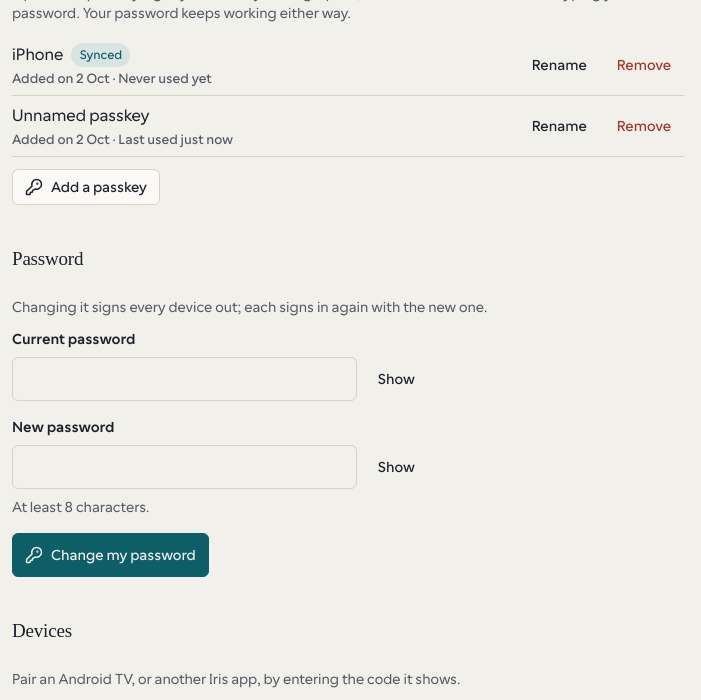
Test: account page › a short new password is said under it, nothing sent; the fields can be shown
(page scrolled)
Type "old secret" into the password field labelled "Current password" at (184,379), box x1=12 y1=357 x2=356 y2=401
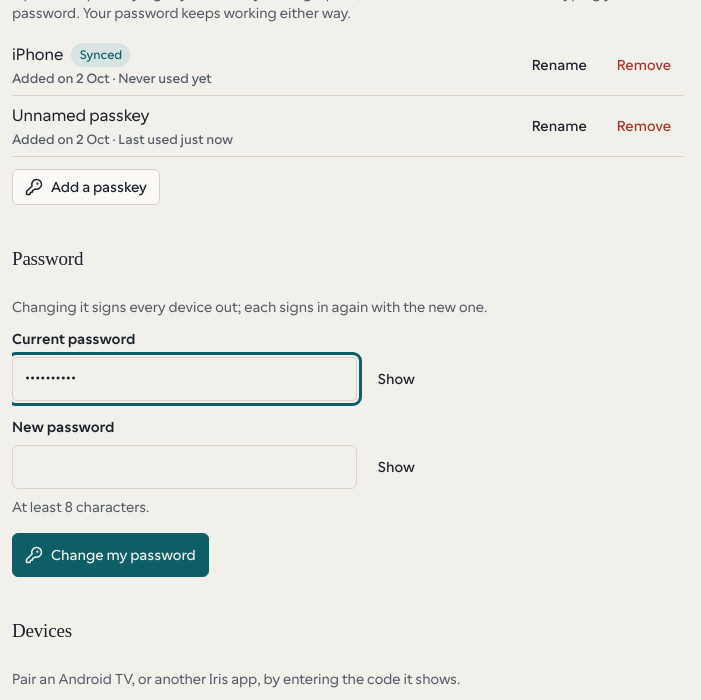
Type "short" into the password field labelled "New password" at (184,467), box x1=12 y1=445 x2=356 y2=489
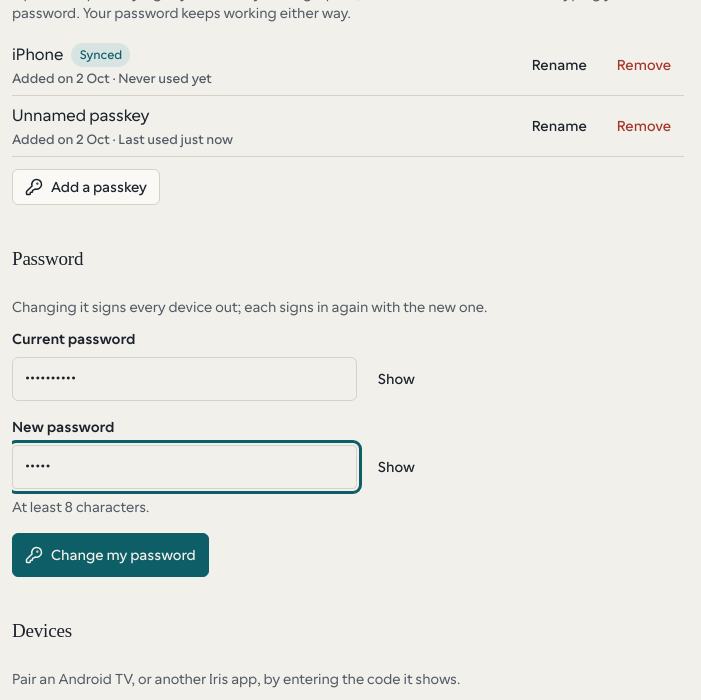
Click the button "Change my password" at (110,555), box x1=12 y1=533 x2=209 y2=577
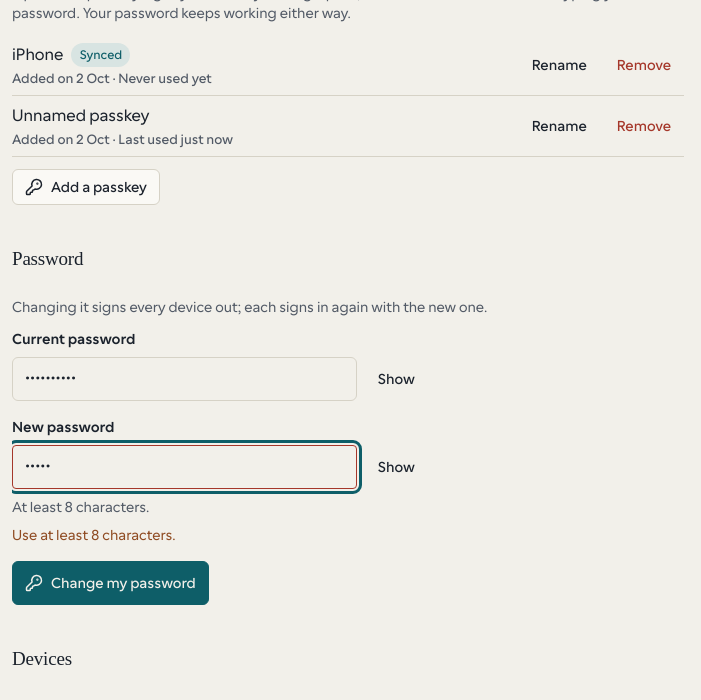
Click the button with aria-label "Show new password" at (396,467), box x1=364 y1=445 x2=428 y2=489
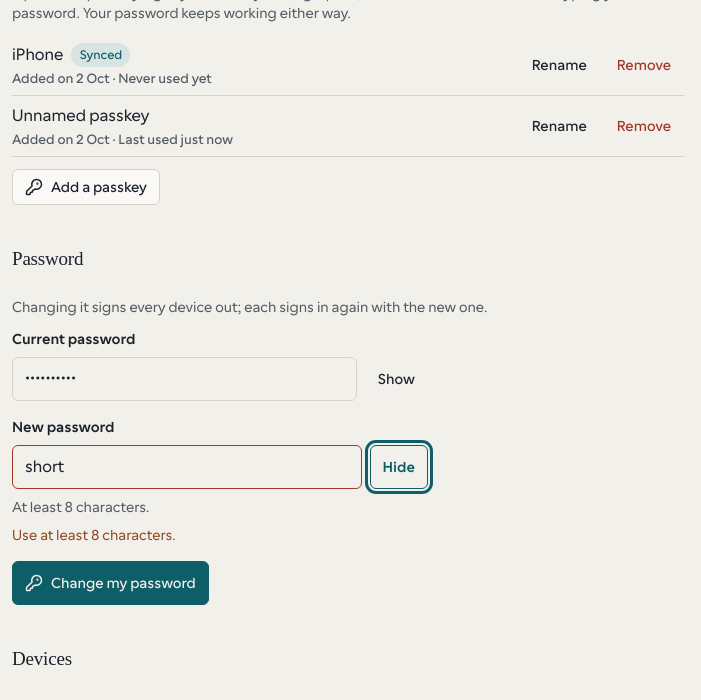
Now the field labelled "New password" shows its text, box x1=12 y1=445 x2=362 y2=489
